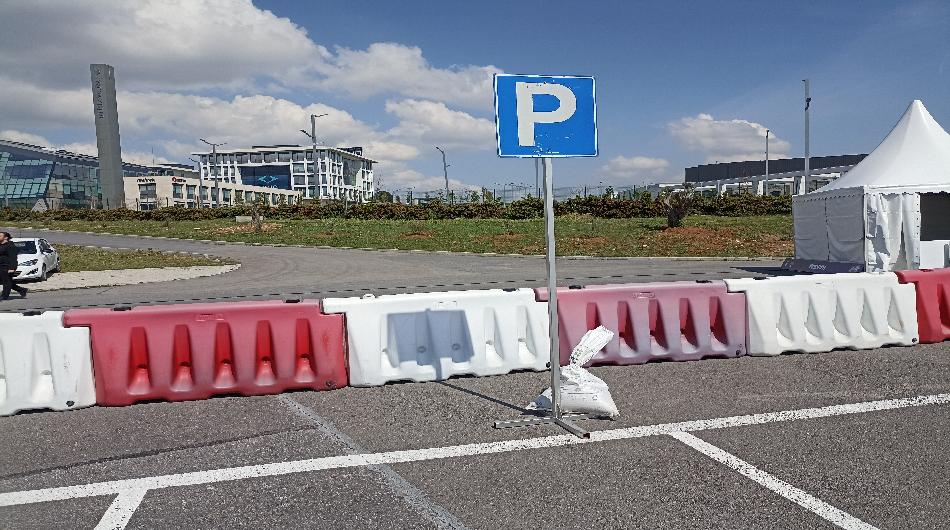park: (492, 68, 600, 159)
